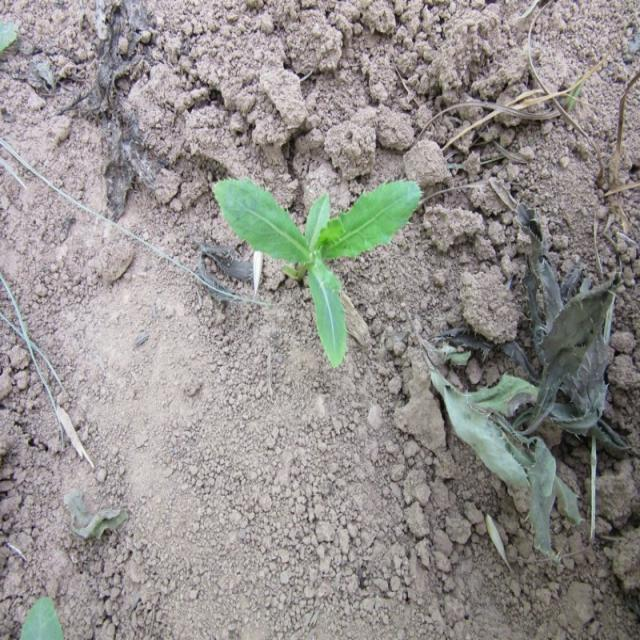cs: (207, 169, 425, 374)
